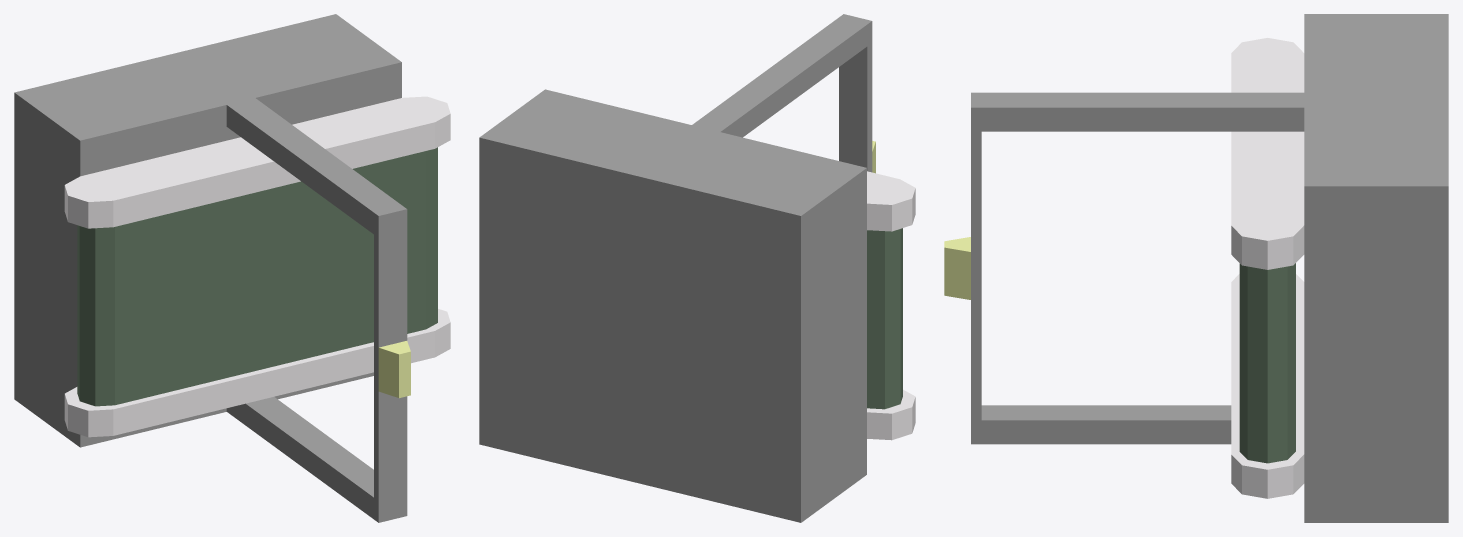
File: inline_scanner.dae
3 renders of one model, left to right at view 1: azimuth 30°, elevation 25°; view 2: azimuth 150°, elevation 25°; view 3: azimuth 270°, elevation 25°, orthographic. The views are drawn at different scales.
Parts seen in each view (by area): view 1: instance_0_004, instance_0_002, instance_0_005, instance_0, instance_0_003; view 2: instance_0_004, instance_0_002, instance_0_005, instance_0; view 3: instance_0_004, instance_0_005, instance_0_002, instance_0, instance_0_003.
Boxes of the visible parts, x1=… form: instance_0_004: x1=14, y1=14, x2=407, y2=522; instance_0_002: x1=77, y1=147, x2=437, y2=406; instance_0_005: x1=64, y1=96, x2=450, y2=228; instance_0: x1=64, y1=309, x2=450, y2=437; instance_0_003: x1=378, y1=341, x2=410, y2=398; instance_0_004: x1=479, y1=14, x2=872, y2=522; instance_0_002: x1=867, y1=228, x2=902, y2=409; instance_0_005: x1=867, y1=171, x2=915, y2=231; instance_0: x1=867, y1=389, x2=915, y2=440; instance_0_004: x1=971, y1=14, x2=1448, y2=522; instance_0_005: x1=1231, y1=38, x2=1304, y2=269; instance_0_002: x1=1239, y1=263, x2=1295, y2=463; instance_0: x1=1231, y1=274, x2=1304, y2=498; instance_0_003: x1=944, y1=237, x2=970, y2=299.
Size of the model in its own units: 713 by 551 by 748.
